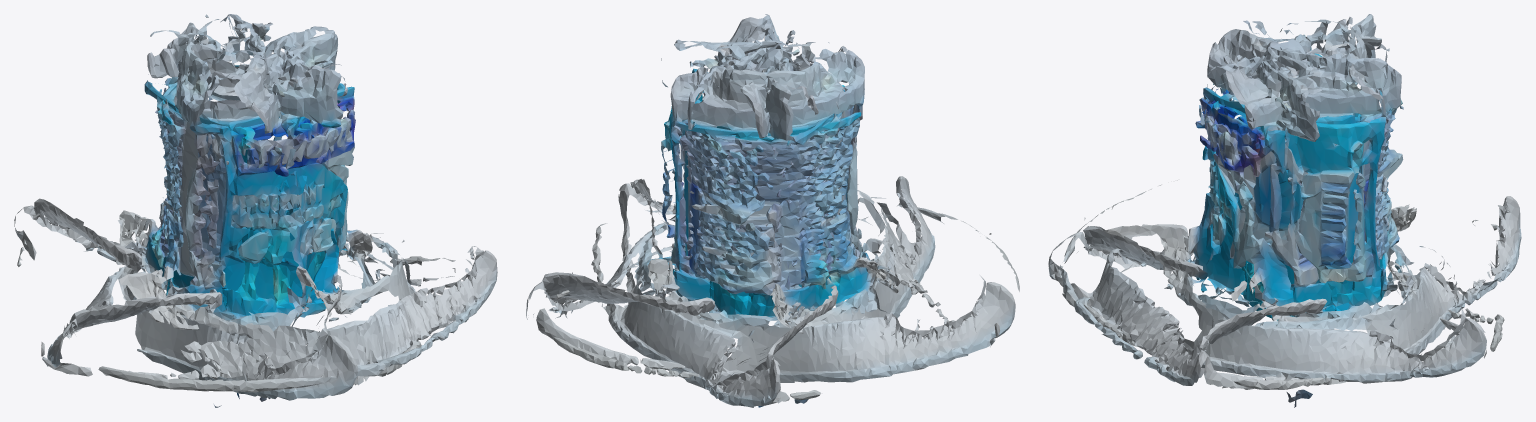
Rendered from finished_model_20260519_151058.glb.
3 views of the same model, side by side, from view 1: azimuth 30°, elevation 25°; view 2: azimuth 150°, elevation 25°; view 3: azimuth 270°, elevation 25° (orthographic).
Parts seen in each view (by area): view 1: finished_model_20260519_151058.ply; view 2: finished_model_20260519_151058.ply; view 3: finished_model_20260519_151058.ply.
Part boxes in pixels (x1=…): finished_model_20260519_151058.ply: x1=14, y1=14, x2=497, y2=407; finished_model_20260519_151058.ply: x1=526, y1=14, x2=1019, y2=407; finished_model_20260519_151058.ply: x1=1048, y1=14, x2=1521, y2=407.
Bounding box in the file's own units: 0.143 × 0.1169 × 0.1398.
